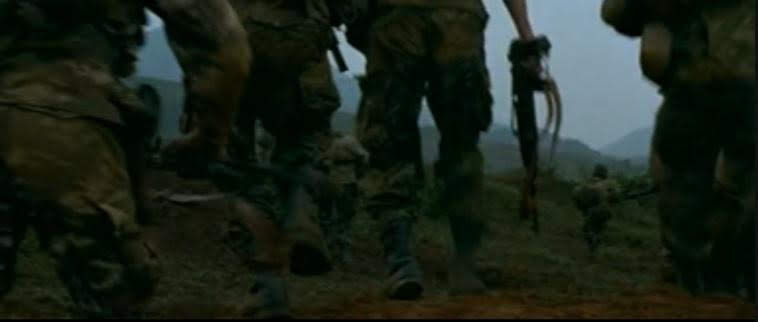gun: (495, 28, 572, 233)
